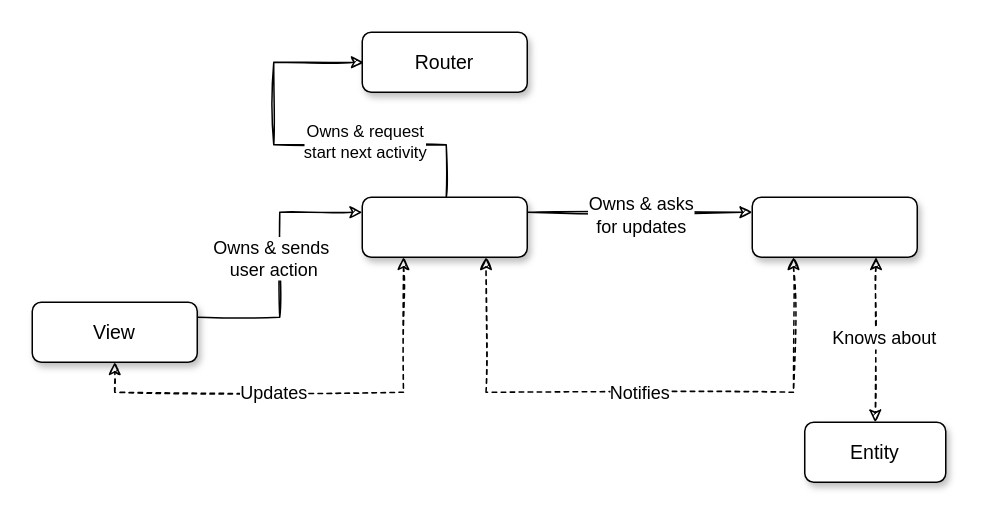
Image size: 981x519. Some labels were removed from this diagram. Here are the shapes that lost their labels. From the top down, the centre of each, then its label:
point 445,229: Presenter
point 835,229: Interactor
